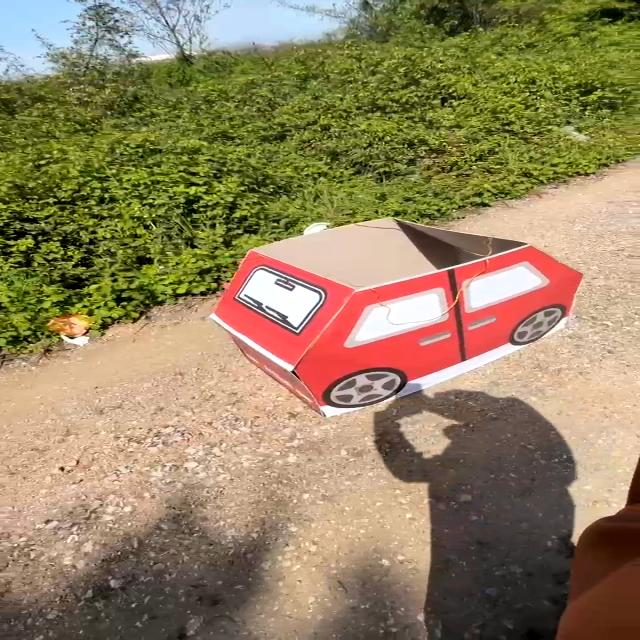red_car: (206, 210, 593, 425)
